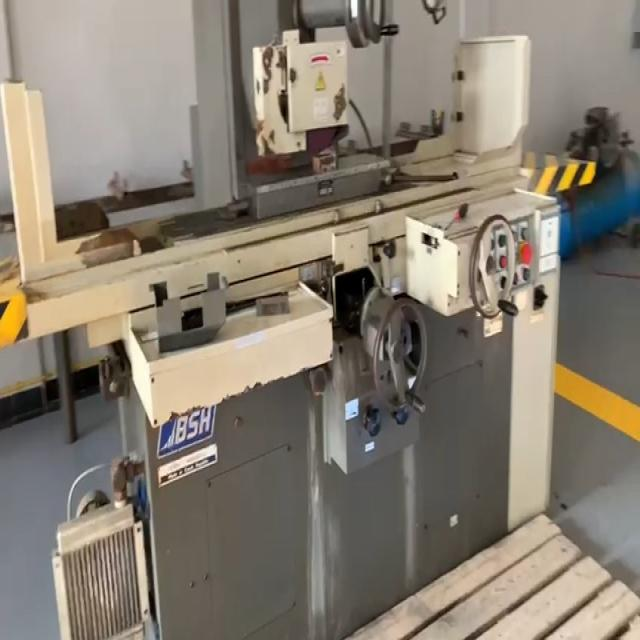fraiseuse: (0, 0, 596, 640)
